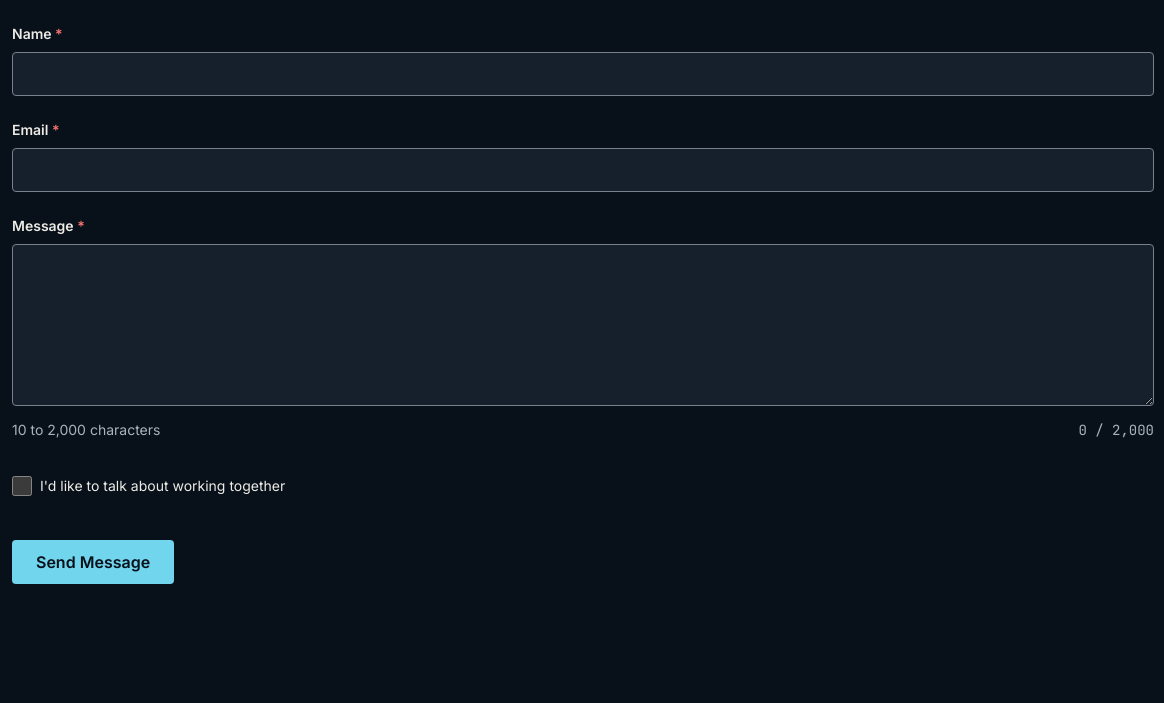
Test: SummitRegister › maps a server validation answer onto the inline errors
The width and height of the screenshot is (1164, 703).
In the field labelled "Name *": coordinates (583, 74) [12,52,1154,96], type "John Doe"
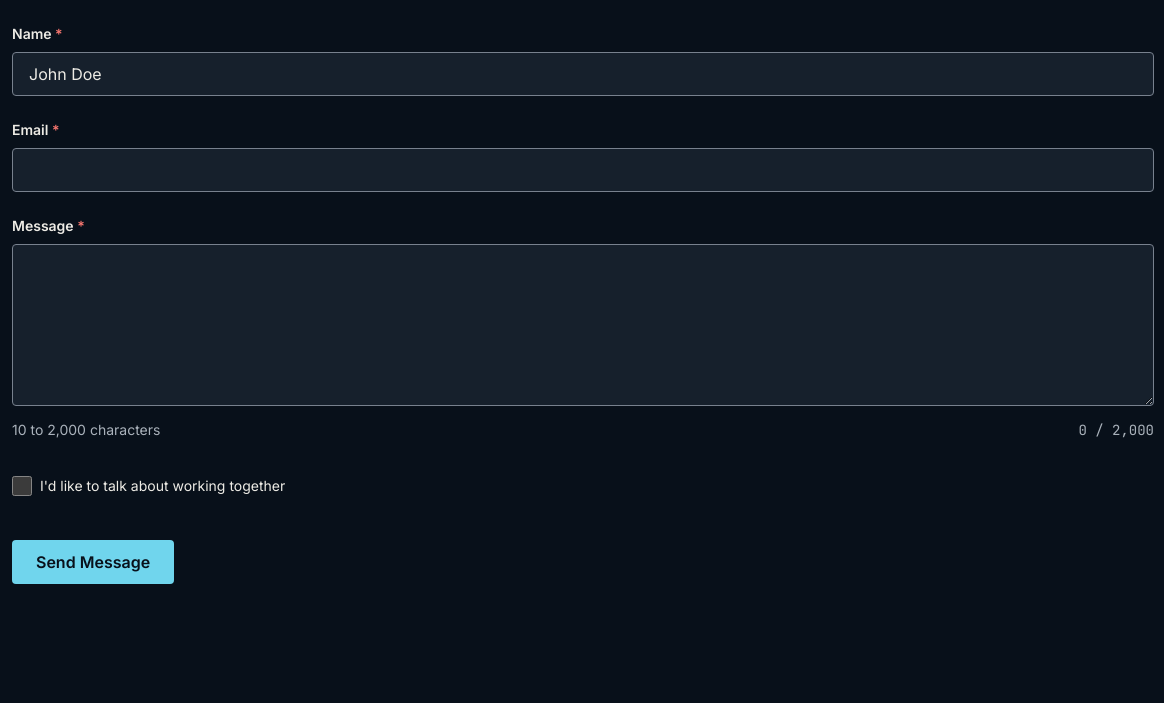
In the field labelled "Email *": coordinates (583, 170) [12,148,1154,192], type "john@example.com"
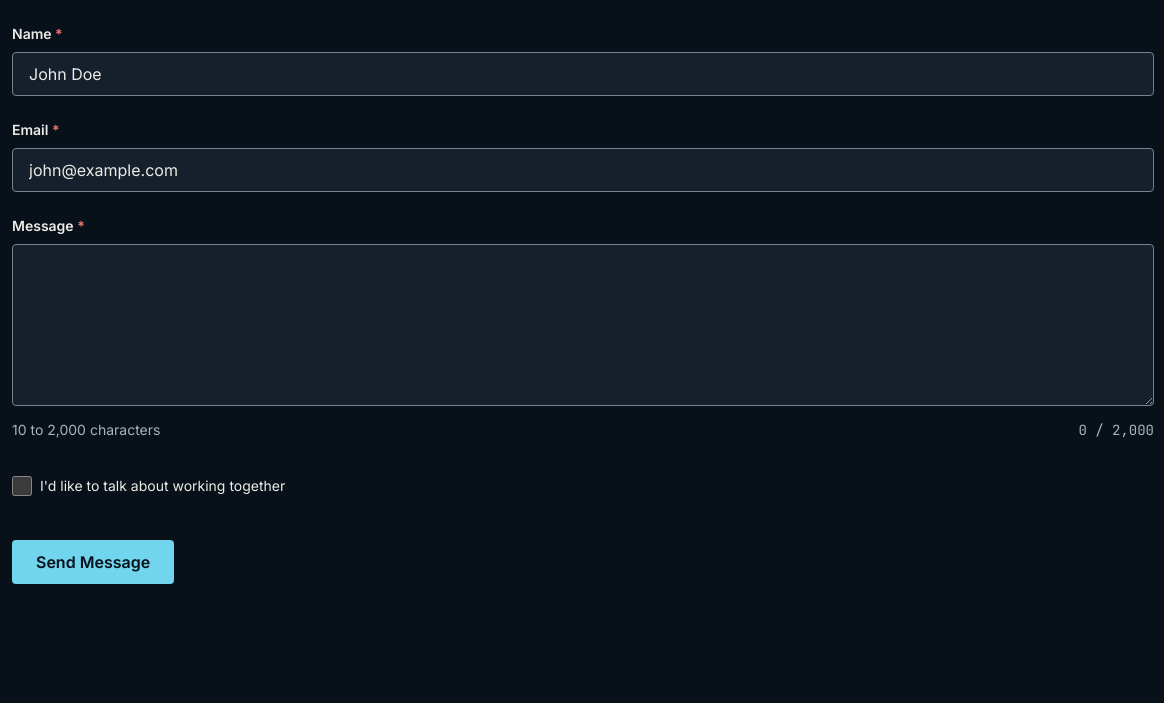
In the text box labelled "Message *": coordinates (583, 325) [12,244,1154,406], type "This is a test message that is long enough."
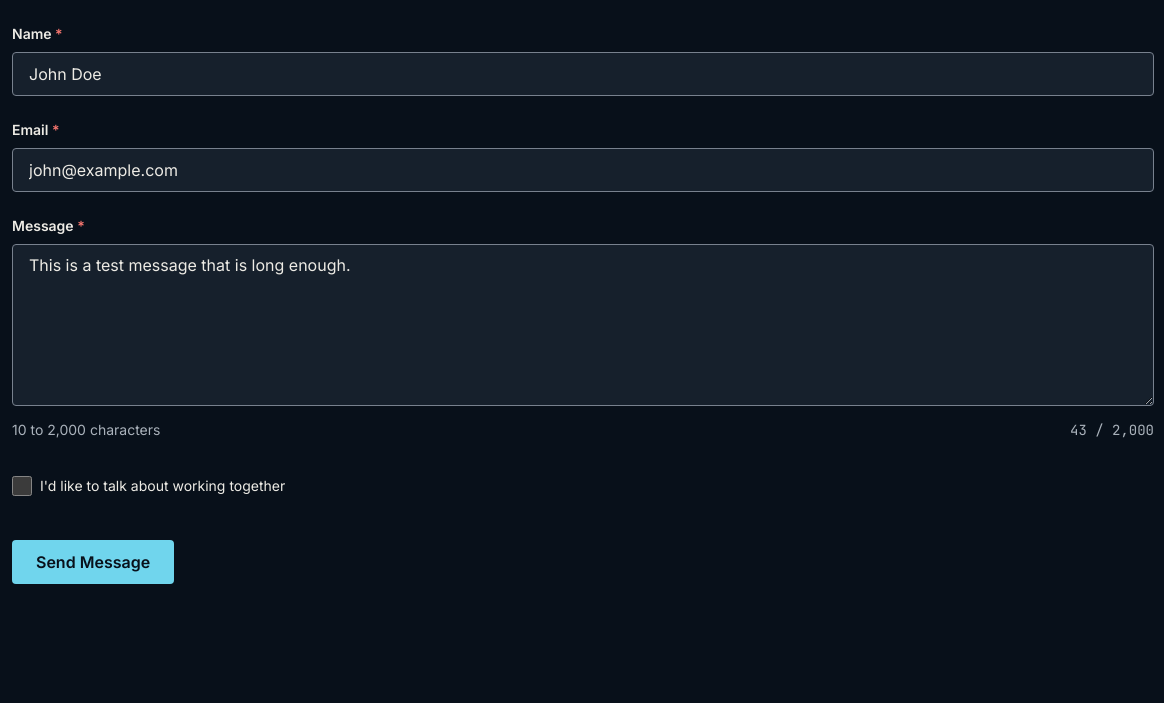
Click the button "Send Message": coordinates (93, 562) [12,540,174,584]
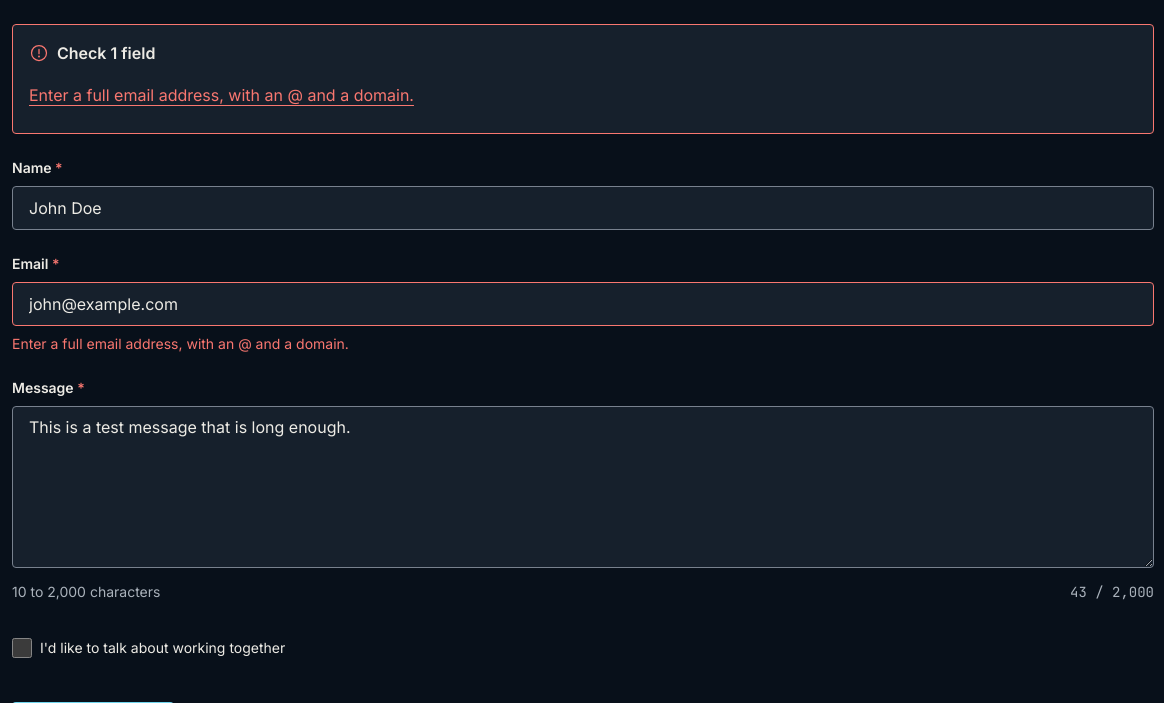
Expected: the message does not show "Couldn't", [12,24,1154,134]
Now the message shows "Check 1 field", box [57,43,155,63]
